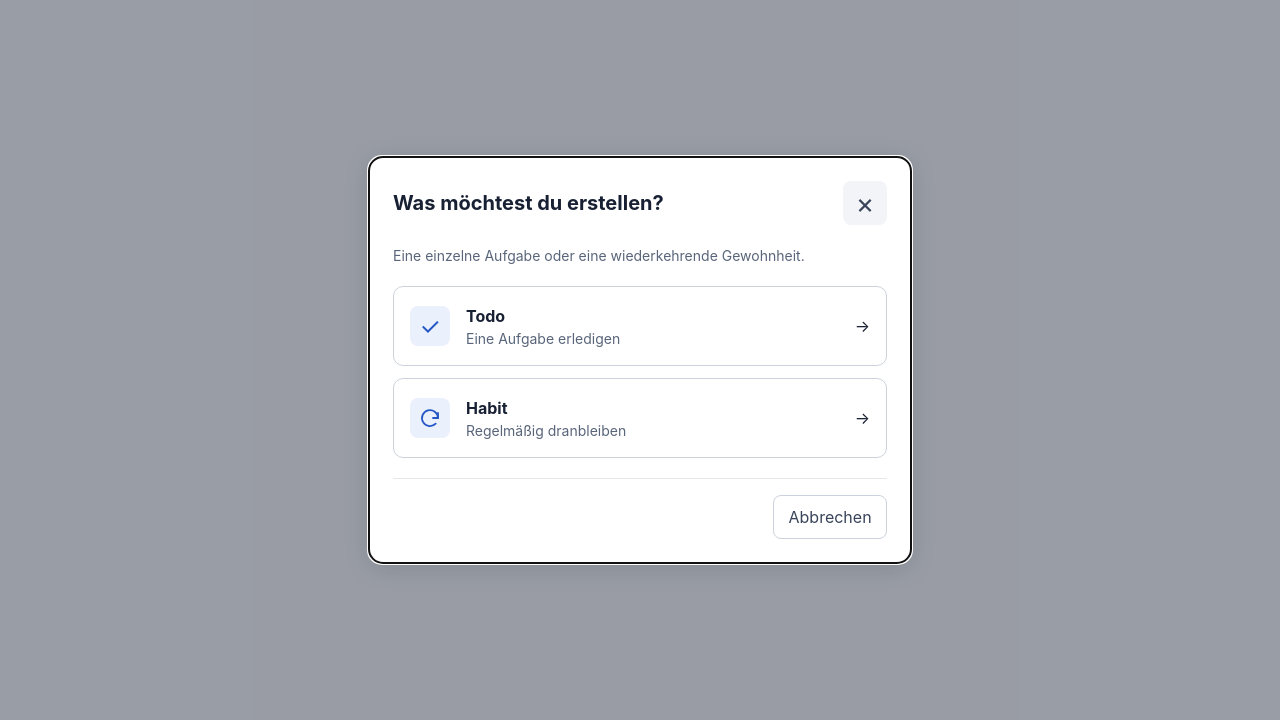
Test: CreateItemDialog › blocks closing and navigation during a pending creation
Step 1. Click the button with test id "choose-habit" → (430, 418), box top-left (393, 378), bottom-right (887, 458)
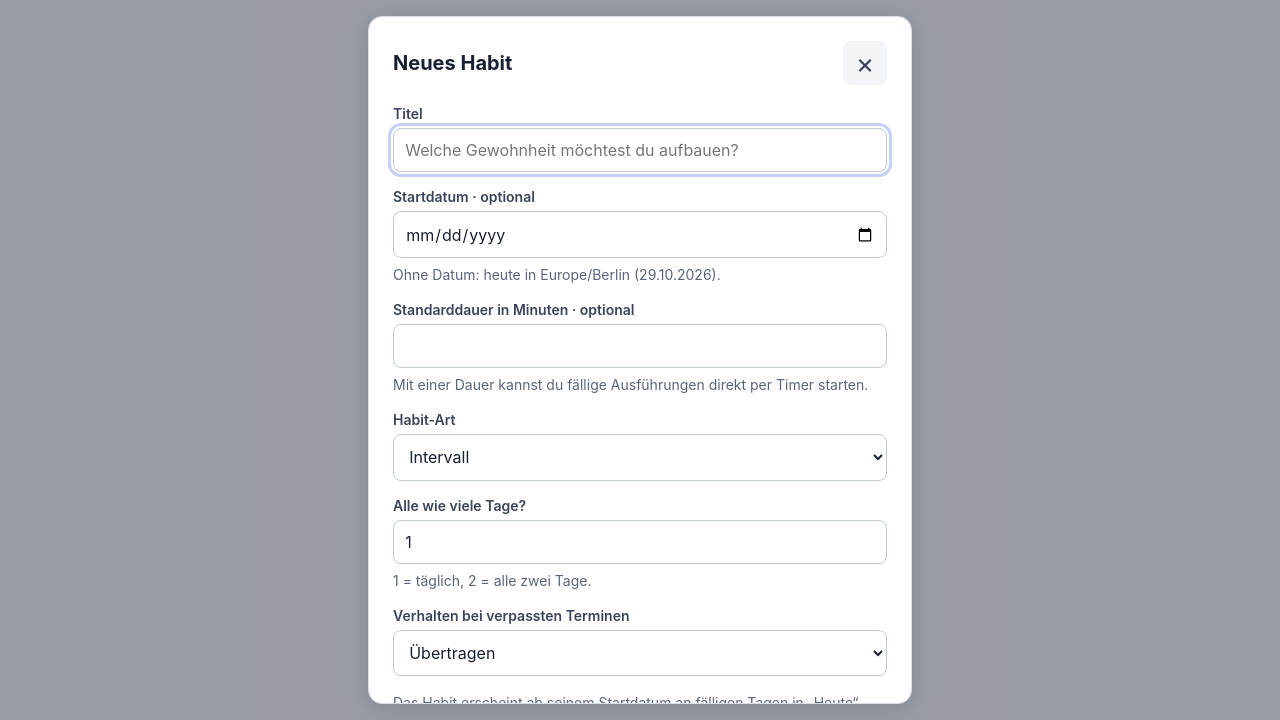
Step 2. Type "Joggen" into the field named "title" → (640, 150), box top-left (393, 128), bottom-right (887, 172)
(page scrolled)
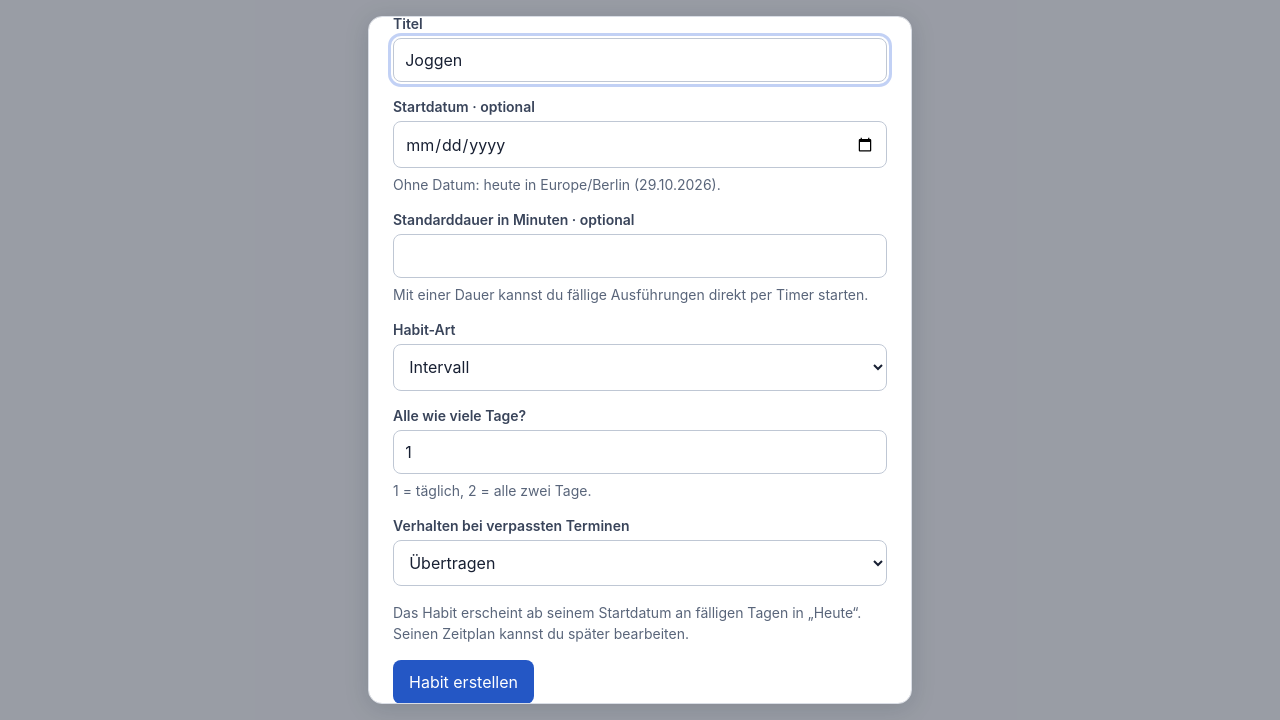
Step 3. Submit the form, box top-left (393, 15), bottom-right (887, 704)
(page scrolled)
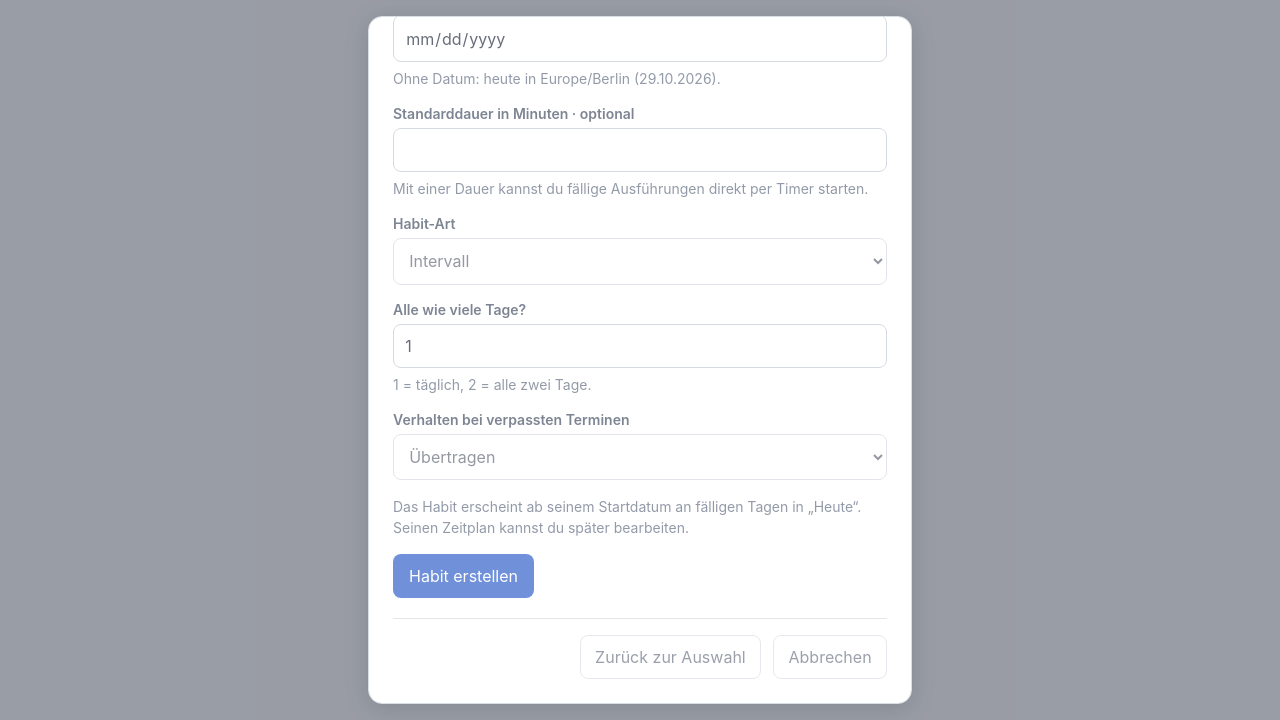
Expected: the button "Zurück zur Auswahl" is disabled, top-left (580, 635), bottom-right (761, 679)
Expected: the button "Abbrechen" is disabled, top-left (773, 635), bottom-right (887, 679)
